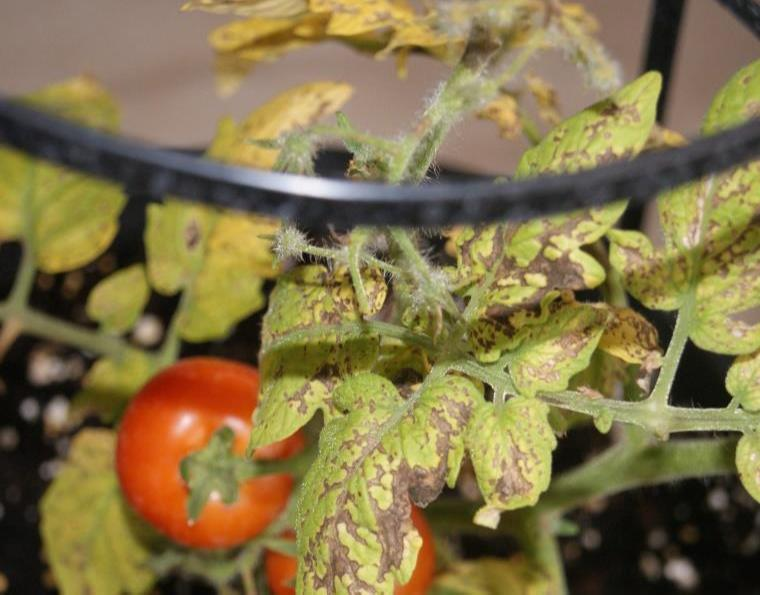Tomato leaf bacterial spot: (459, 56, 683, 324), (287, 349, 490, 595), (618, 42, 760, 376), (250, 256, 379, 450), (470, 388, 561, 529)
